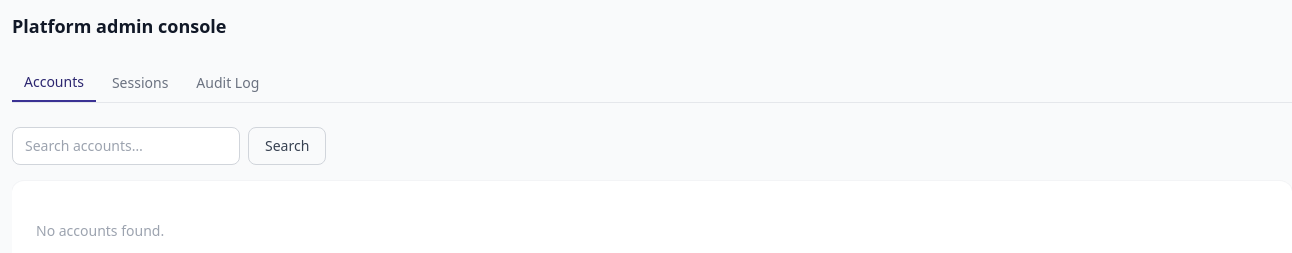
Test: AdminConsolePage › hides the revoke button for a non-superadmin viewer on the sessions tab
Click the button "sessions".
click(140, 83)  # box [100,64,180,102]
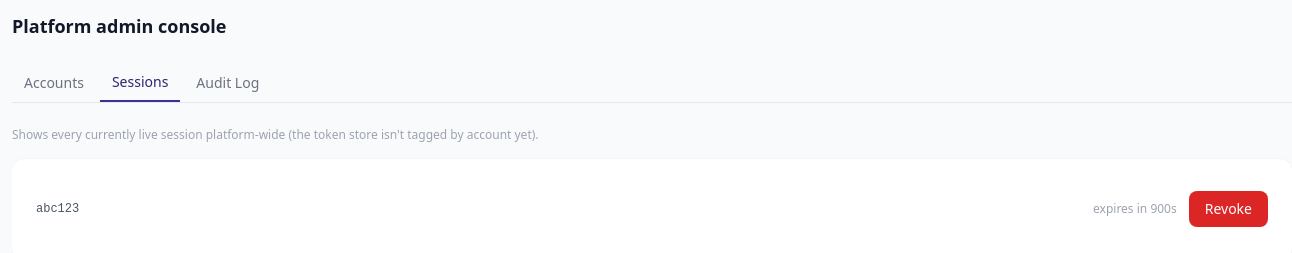
Check: the text "abc123" is shown, box [36,201,79,217]
Check: the button "Revoke" is shown, box [1189,191,1268,227]
